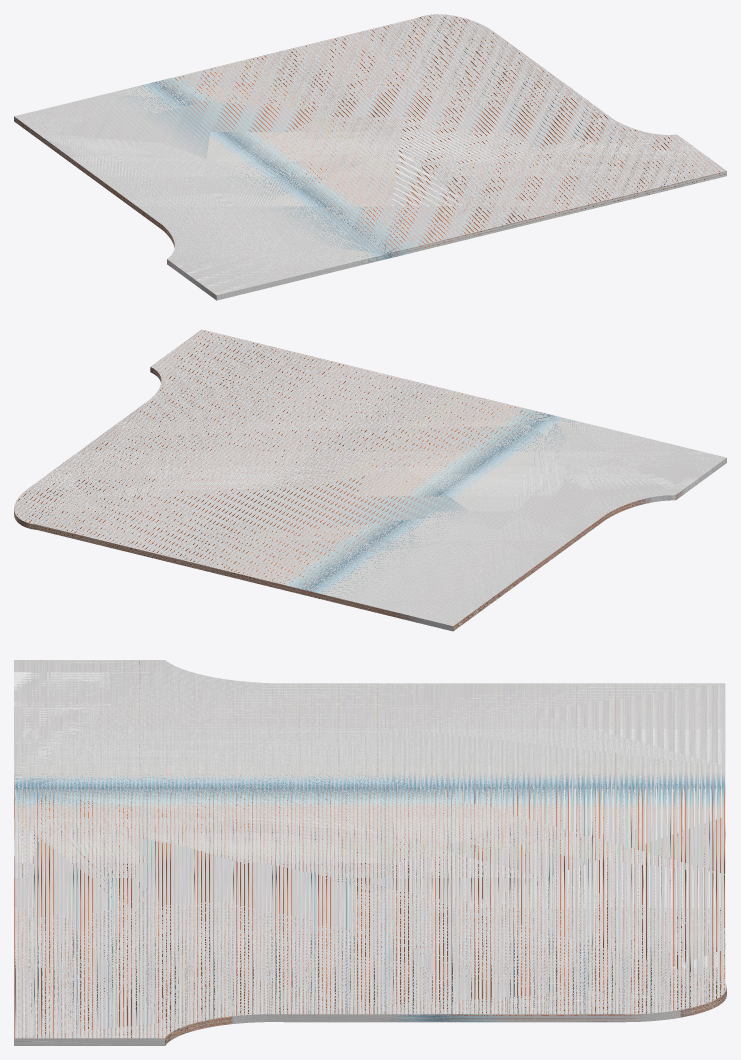
Rendered from original-58.obj.
3 renders of one model, top to bottom at view 1: azimuth 30°, elevation 25°; view 2: azimuth 150°, elevation 25°; view 3: azimuth 270°, elevation 25°, orthographic. The views are drawn at different scales.
Visible parts, largest first — view 1: Componente_3_43/Componente_3/mesh11/mesh11-geometry#mesh11-geome; view 2: Componente_3_43/Componente_3/mesh11/mesh11-geometry#mesh11-geome; view 3: Componente_3_43/Componente_3/mesh11/mesh11-geometry#mesh11-geome.
Part boxes in pixels (x1=…): Componente_3_43/Componente_3/mesh11/mesh11-geometry#mesh11-geome: x1=14, y1=14, x2=726, y2=300; Componente_3_43/Componente_3/mesh11/mesh11-geometry#mesh11-geome: x1=14, y1=329, x2=726, y2=631; Componente_3_43/Componente_3/mesh11/mesh11-geometry#mesh11-geome: x1=14, y1=660, x2=726, y2=1045.
Bounding box in the file's own units: 0.078 × 0.000748 × 0.0621.
